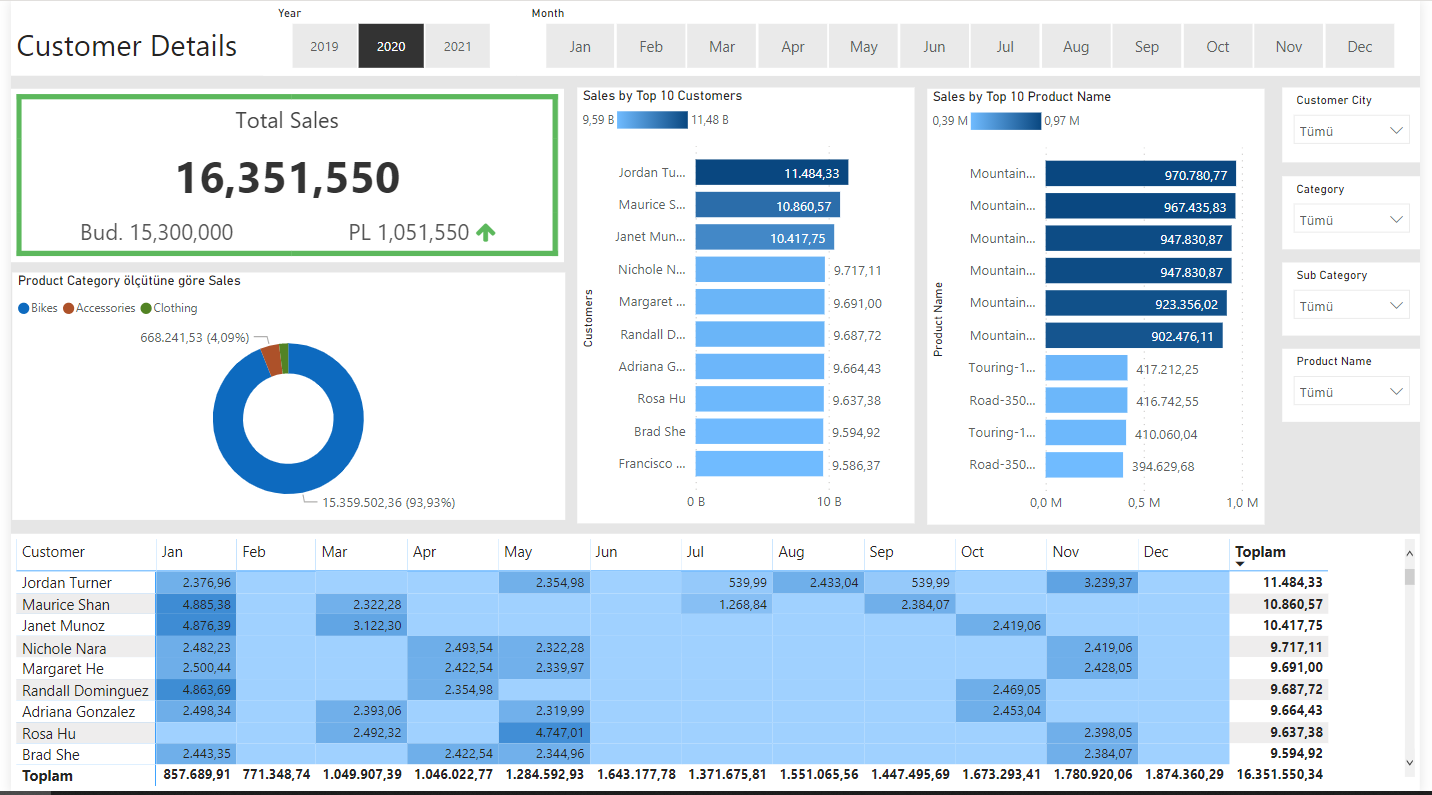

What the dashboard file says about the page in this screenshot:
{"tool":"powerbi","page":{"name":"Customer Details","canvas":[1280,720],"ordinal":1},"visuals":[{"type":"textbox","box":[0,0,1280,68.7],"z":0},{"type":"slicer","fields":{"Values":["DIM_Customer.Customer City"]},"box":[1154.4,79.9,125.8,67.8],"z":1000},{"type":"slicer","fields":{"Values":["DIM_Product.Product Category"]},"box":[1154.4,159.7,125.8,66.5],"z":2000},{"type":"slicer","fields":{"Values":["DIM_Product.Sub Category"]},"box":[1154.4,238.4,125.8,66.5],"z":3000},{"type":"slicer","fields":{"Values":["DIM_Product.Product Name"]},"box":[1154.4,317,125.8,66.5],"z":4000},{"type":"slicer","fields":{"Values":["DIM_Calendar.Year"]},"box":[229.9,0,229.9,69],"z":5000},{"type":"slicer","fields":{"Values":["DIM_Calendar.MonthShort"]},"box":[459.8,0,820.4,69],"z":6000},{"type":"BBED0A4D4D8D44CE93CF2DAFADEE466C","fields":{"actual":["Key Measures.Sales"],"target1":["Key Measures.Budget Amount"],"target2":["Key Measures.Sales - Budget"]},"box":[0,81.1,502.2,157.3],"z":7000},{"type":"barChart","title":"Sales by Top 10 Customers","fields":{"Y":["Key Measures.Sales"],"Category":["DIM_Customer.Full Name"]},"box":[514.3,79.9,306.1,395.7],"z":10000},{"type":"barChart","title":"Sales by Top 10 Product Name","fields":{"Y":["Key Measures.Sales"],"Category":["DIM_Product.Product Name"]},"box":[832.5,81.1,306.1,395.7],"z":11000},{"type":"pivotTable","fields":{"Rows":["DIM_Customer.Full Name"],"Values":["Key Measures.Sales"],"Columns":["DIM_Calendar.MonthShort"]},"box":[0,485.2,1280.3,234.8],"z":11001},{"type":"donutChart","fields":{"Category":["DIM_Product.Product Category"],"Y":["Key Measures.Sales"]},"box":[1.2,248.1,502.2,225.1],"z":11002}]}

Visuals, with their boxes in screenshot pixels (x1, y1, x2, y2), scaled from the page's 1280x720 canvas onto the 1432x795 screenshot:
textbox: (0, 0, 1431, 76)
slicer - DIM_Customer.Customer City: (1291, 88, 1431, 163)
slicer - DIM_Product.Product Category: (1291, 176, 1431, 250)
slicer - DIM_Product.Sub Category: (1291, 263, 1431, 337)
slicer - DIM_Product.Product Name: (1291, 350, 1431, 423)
slicer - DIM_Calendar.Year: (257, 0, 514, 76)
slicer - DIM_Calendar.MonthShort: (514, 0, 1431, 76)
BBED0A4D4D8D44CE93CF2DAFADEE466C - Key Measures.Sales x Key Measures.Budget Amount: (0, 90, 562, 263)
"Sales by Top 10 Customers" barChart: (575, 88, 918, 525)
"Sales by Top 10 Product Name" barChart: (931, 90, 1274, 526)
pivotTable - DIM_Customer.Full Name x Key Measures.Sales: (0, 536, 1431, 794)
donutChart - DIM_Product.Product Category x Key Measures.Sales: (1, 274, 563, 522)
